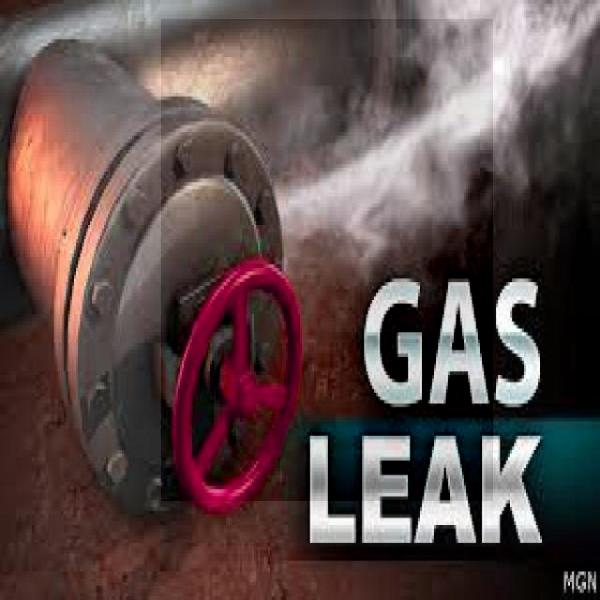gas: (161, 19, 493, 501)
